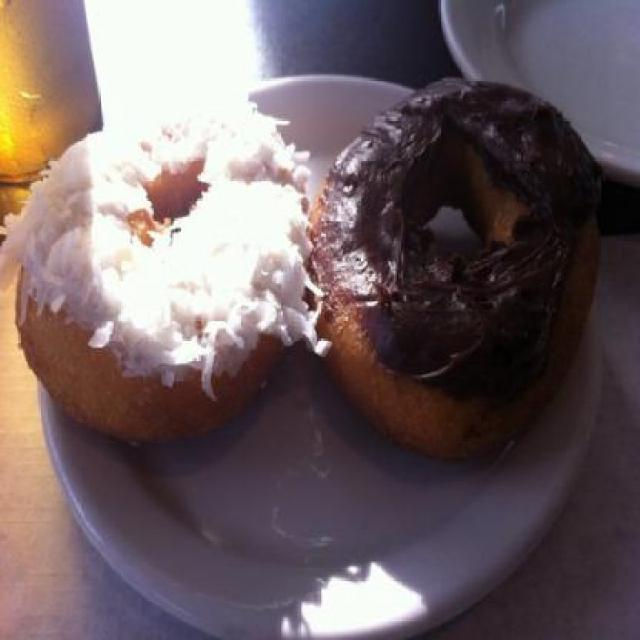Donuts: (11, 68, 556, 468)
